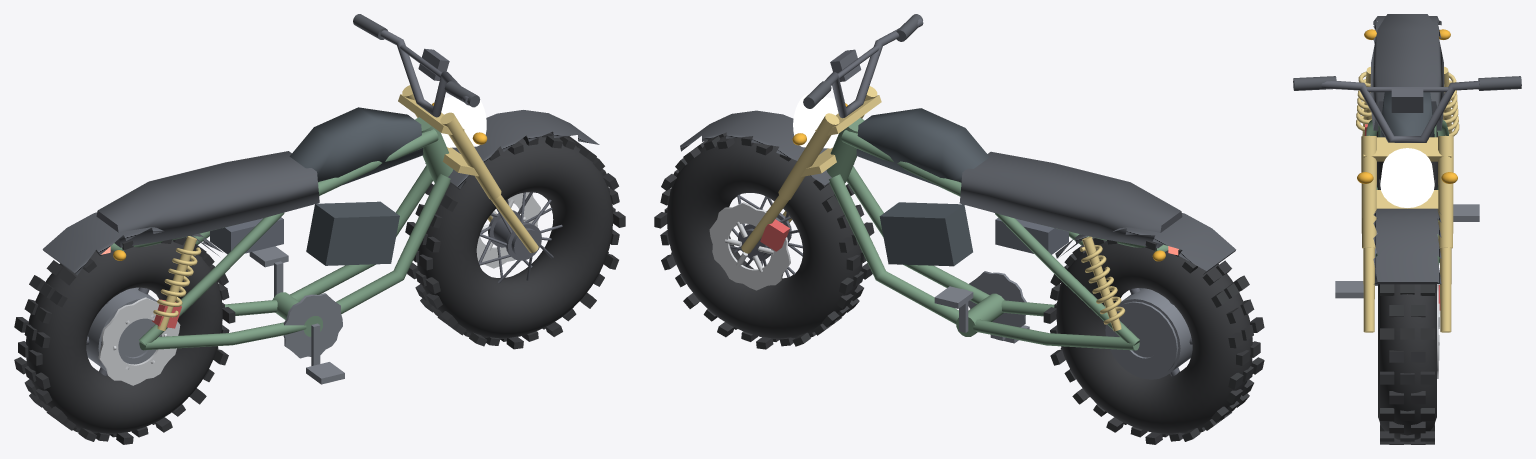
File: ebike_fat.glb
3 views of the same model, side by side, from view 1: azimuth 30°, elevation 25°; view 2: azimuth 150°, elevation 25°; view 3: azimuth 270°, elevation 25° (orthographic).
Visible parts, largest first — view 1: front_wheel_tire, rear_wheel_tire, seat_fender_saddle, frame_scrambler_chassis, battery_tank_pack, fork_shock_suspension, motor_crankset, rear_wheel_rotor, rear_wheel_motor_hub, front_wheel_rim, cockpit_handlebars_tft, controller_foc (+3 smaller); view 2: front_wheel_tire, rear_wheel_tire, seat_fender_saddle, frame_scrambler_chassis, battery_tank_pack, fork_shock_suspension, rear_wheel_motor_hub, front_wheel_rotor, motor_crankset, cockpit_handlebars_tft, controller_foc, headlight_halo_led (+3 smaller); view 3: seat_fender_saddle, front_wheel_tire, fork_shock_suspension, cockpit_handlebars_tft, headlight_halo_led, battery_tank_pack, grip_handles, motor_crankset, frame_scrambler_chassis, rear_wheel_tire, signal_right, signal_left (+1 smaller).
Boxes of the visible parts, x1,y1,x2,y2 form: front_wheel_tire: (405,131,625,349); rear_wheel_tire: (14,237,235,444); seat_fender_saddle: (42,110,599,275); frame_scrambler_chassis: (110,117,453,350); battery_tank_pack: (289,107,423,265); fork_shock_suspension: (153,85,538,330); motor_crankset: (249,246,344,384); rear_wheel_rotor: (98,297,180,385); rear_wheel_motor_hub: (86,287,160,370); front_wheel_rim: (478,192,562,283); cockpit_handlebars_tft: (380,30,468,117); controller_foc: (210,217,283,254); front_wheel_tire: (654,132,874,349); rear_wheel_tire: (1043,237,1264,444); seat_fender_saddle: (680,110,1235,274); frame_scrambler_chassis: (826,118,1168,350); battery_tank_pack: (856,108,989,266); fork_shock_suspension: (741,86,1125,331); rear_wheel_motor_hub: (1105,288,1192,379); front_wheel_rotor: (709,202,790,290); motor_crankset: (934,271,1029,343); cockpit_handlebars_tft: (825,18,923,118); controller_foc: (995,217,1068,254); headlight_halo_led: (793,94,838,148); seat_fender_saddle: (1370,14,1444,284); front_wheel_tire: (1378,284,1436,444); fork_shock_suspension: (1356,66,1459,332); cockpit_handlebars_tft: (1321,81,1479,142); headlight_halo_led: (1380,148,1434,207); battery_tank_pack: (1380,92,1434,137); grip_handles: (1293,76,1521,90); motor_crankset: (1335,204,1479,298); frame_scrambler_chassis: (1366,119,1449,265); rear_wheel_tire: (1377,131,1437,189); signal_right: (1357,29,1376,183); signal_left: (1438,29,1457,183).
Bounding box in the file's own units: 2.1 × 1.05 × 0.7046.
